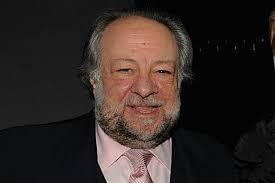normalEye: (112, 53, 174, 83)
